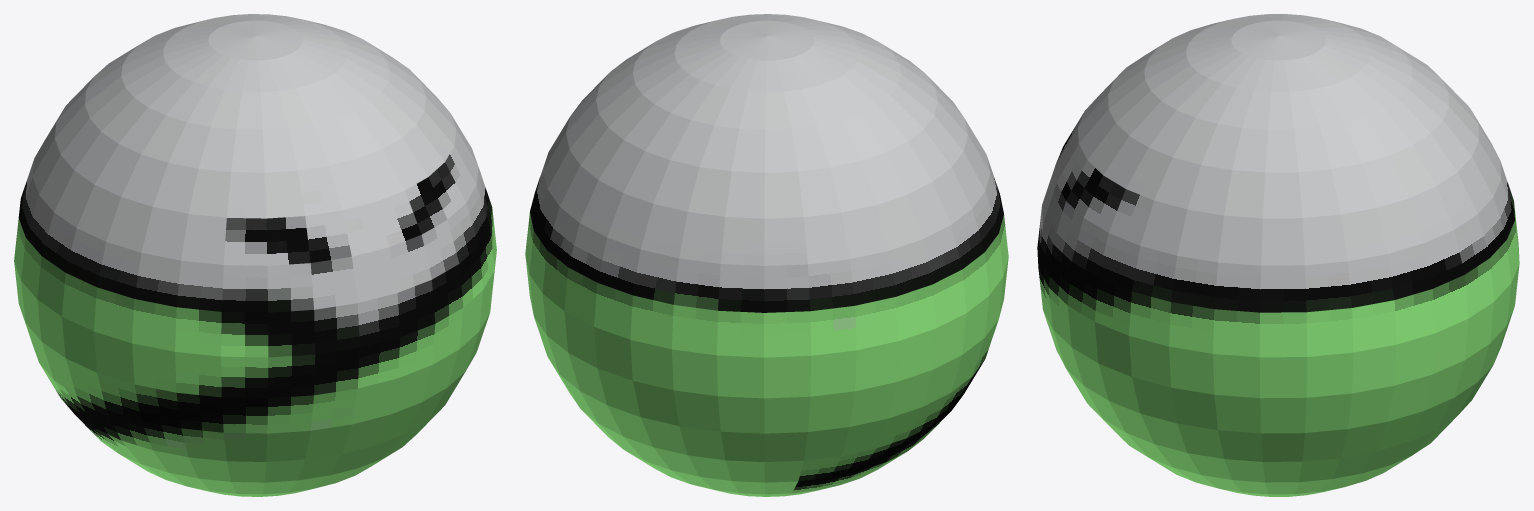
The model's file is TD2EnemyTestForCamera.obj.
3 views of the same model, side by side, from view 1: azimuth 30°, elevation 25°; view 2: azimuth 150°, elevation 25°; view 3: azimuth 270°, elevation 25° (orthographic).
Visible parts, largest first — view 1: TD2_Enemy; view 2: TD2_Enemy; view 3: TD2_Enemy.
Part boxes in pixels (x1=…): TD2_Enemy: x1=14, y1=14, x2=496, y2=496; TD2_Enemy: x1=525, y1=14, x2=1008, y2=496; TD2_Enemy: x1=1037, y1=14, x2=1519, y2=496.
Bounding box in the file's own units: 1.99 × 2 × 1.99.
1 material, 1 textured.
